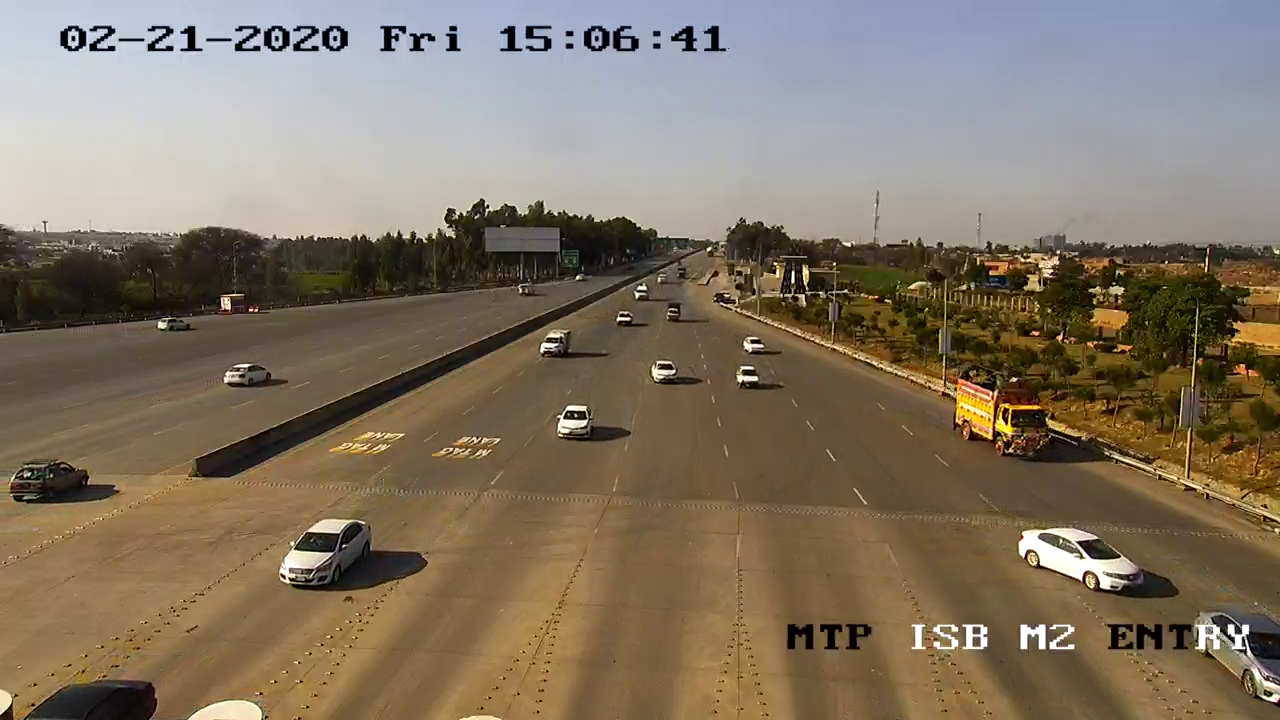f1: (1011, 517, 1152, 604), (273, 508, 383, 598), (542, 388, 598, 451), (722, 357, 766, 400), (640, 351, 682, 395)
f5: (942, 361, 1063, 468)
